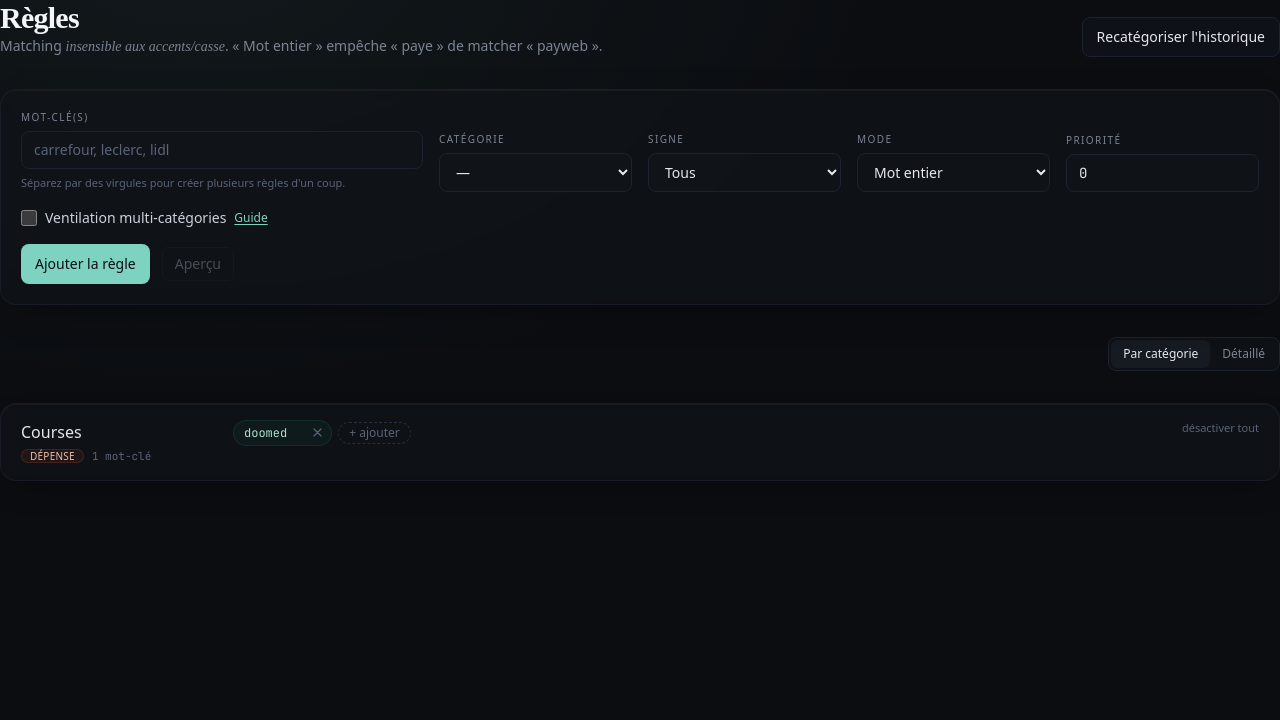
Scenario: Rules page (characterization) › deletes a rule after confirming
Expected: the button "doomed" is shown, 244,422 -> 287,442
Click the button "Détaillé" at (1244,354), box 1210,340 -> 1277,368
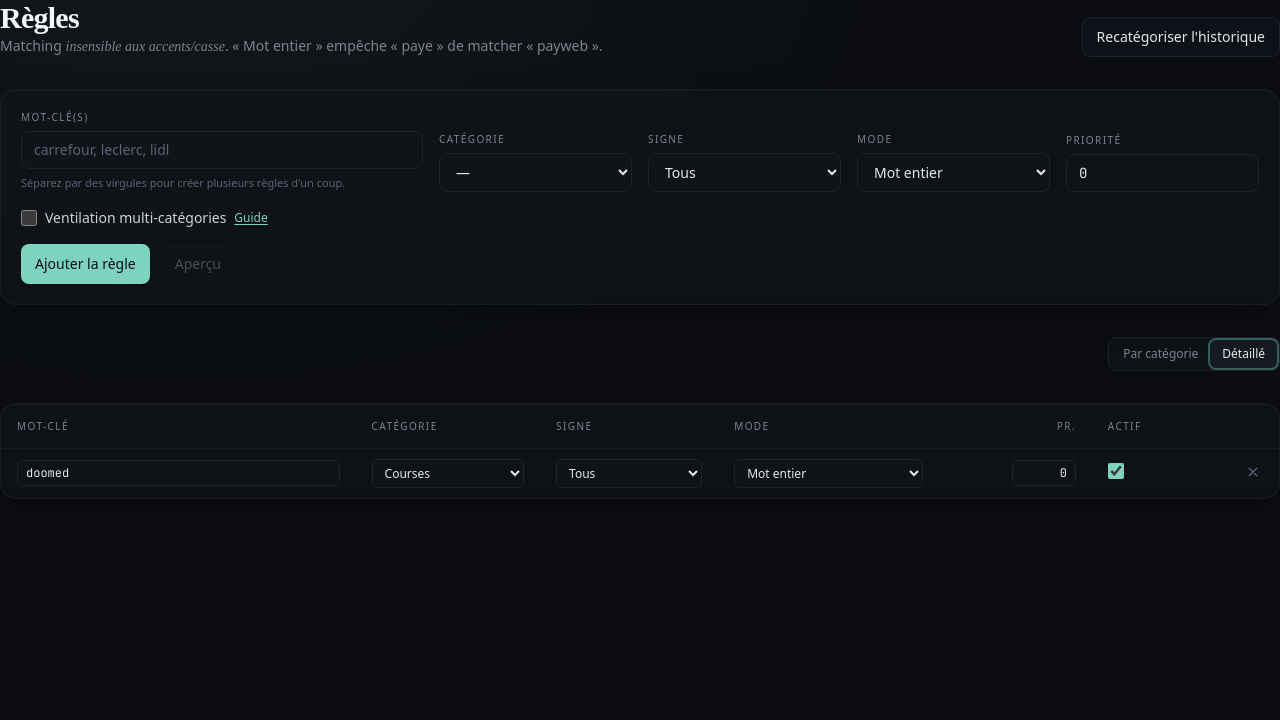
Click the button named "supprimer" at (1253,472), box 1243,466 -> 1263,478
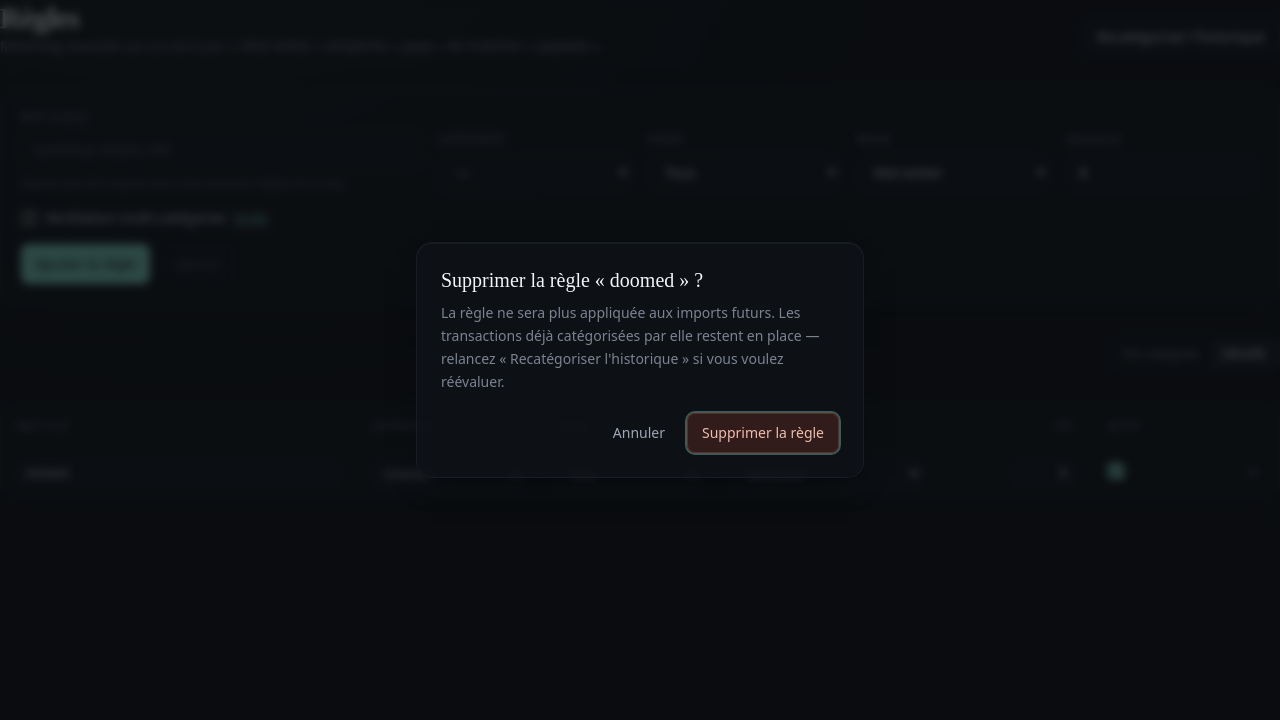
ConfirmDialog appears — click the destructive confirm.
Click the button "Supprimer la règle" at (763,433), box 687,413 -> 839,453
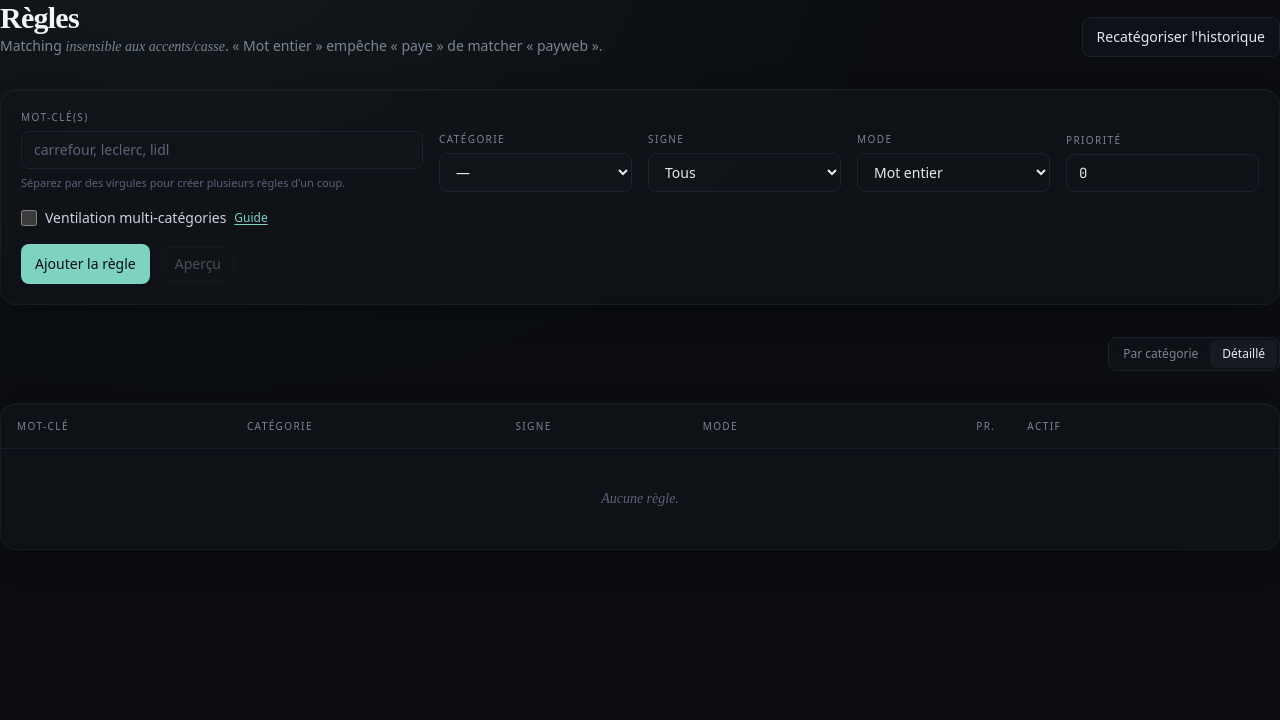
Expected: the text showing "doomed" is gone
